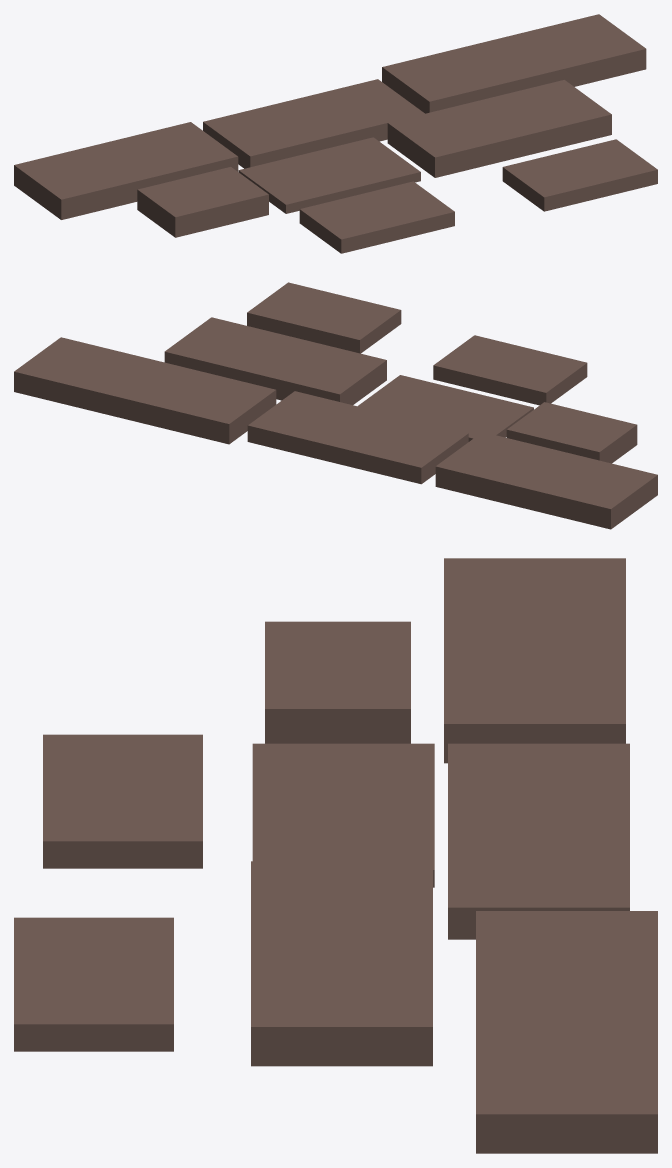
Rendered from model_StreetStone_low.fbx.
The picture shows the model from 3 angles, top to bottom: view 1: azimuth 30°, elevation 25°; view 2: azimuth 150°, elevation 25°; view 3: azimuth 270°, elevation 25°; orthographic projection. The views are drawn at different scales.
Parts seen in each view (by area): view 1: stone; view 2: stone; view 3: stone.
Boxes of the visible parts, x1,y1,x2,y2 form: stone: (14, 14, 657, 253); stone: (14, 282, 657, 529); stone: (14, 558, 657, 1153).
Bounding box in the file's own units: 295 × 9.75 × 144.
